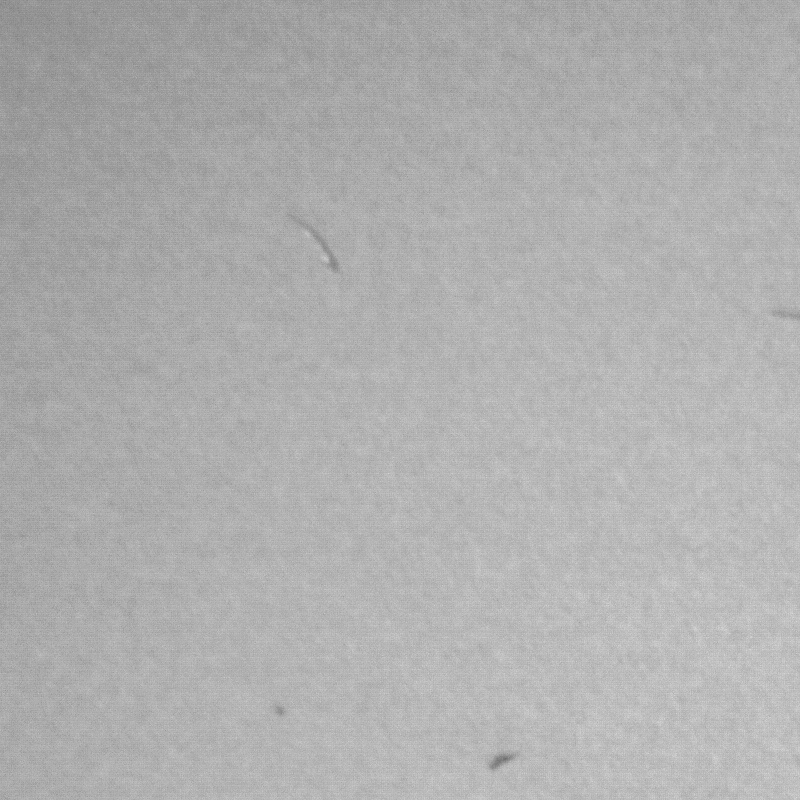defect: (291, 216, 341, 271), (483, 755, 530, 770), (773, 306, 800, 326), (273, 697, 289, 721)
